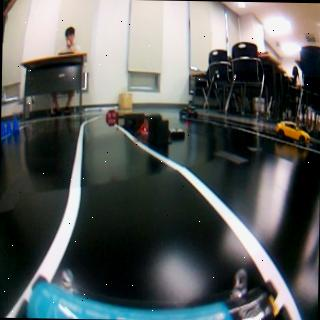stop: (102, 109, 118, 124)
